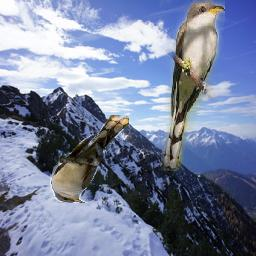Cuckoo: (161, 1, 225, 172), (51, 115, 130, 203)
